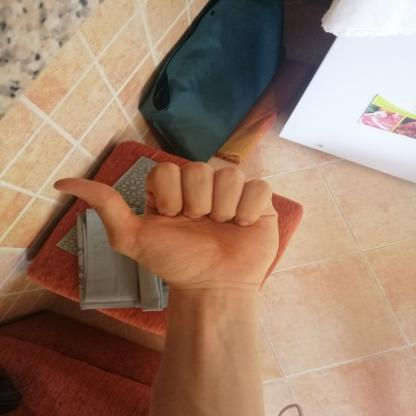DAD: (40, 152, 291, 299)
